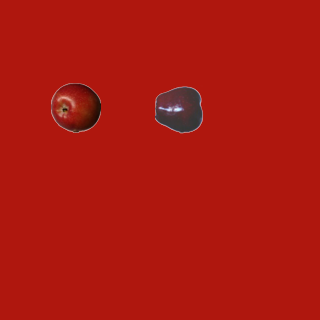Apple Braeburn: (50, 82, 100, 132)
Apple Red Delicious: (154, 84, 204, 134)
